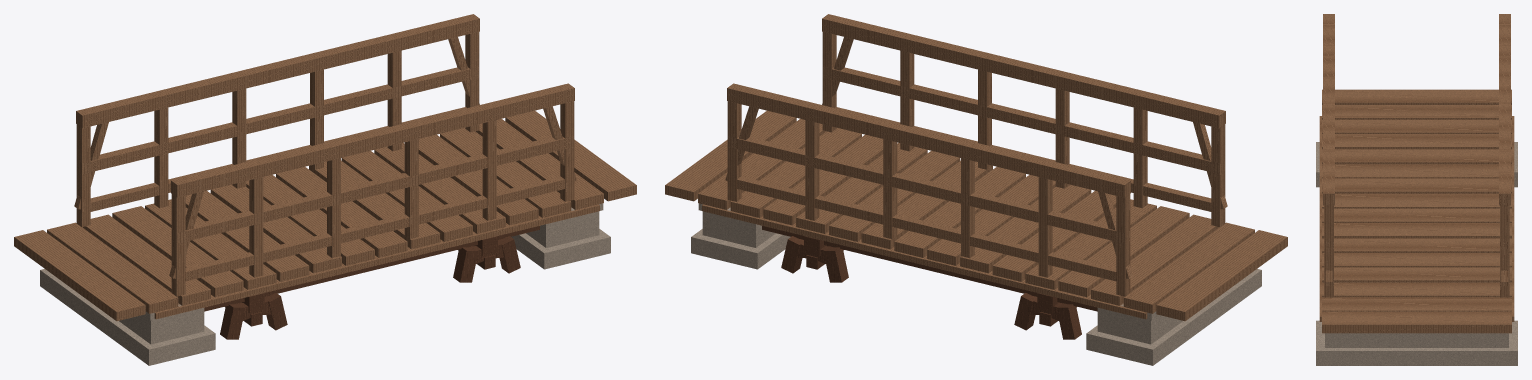
File: wooden-bridge.glb
The picture shows the model from 3 angles, left to right: view 1: azimuth 30°, elevation 25°; view 2: azimuth 150°, elevation 25°; view 3: azimuth 270°, elevation 25°; orthographic projection. The views are drawn at different scales.
Visible parts, largest first — view 1: railings, deck, abutments, trestle-left, trestle-right, stringers; view 2: railings, deck, abutments, trestle-left, trestle-right, stringers; view 3: deck, abutments, railings.
Part boxes in pixels (bbox=[...]): railings: bbox=[74, 14, 576, 296]; deck: bbox=[14, 110, 636, 321]; abutments: bbox=[40, 203, 610, 365]; trestle-left: bbox=[220, 293, 287, 339]; trestle-right: bbox=[453, 236, 520, 282]; stringers: bbox=[204, 226, 539, 311]; railings: bbox=[725, 14, 1227, 296]; deck: bbox=[665, 110, 1287, 321]; abutments: bbox=[691, 203, 1261, 365]; trestle-left: bbox=[1014, 293, 1081, 339]; trestle-right: bbox=[781, 236, 848, 282]; stringers: bbox=[762, 226, 1097, 311]; deck: bbox=[1319, 89, 1514, 333]; abutments: bbox=[1316, 142, 1517, 365]; railings: bbox=[1323, 14, 1510, 297].
Bounding box in the file's own units: 4.68 × 1.48 × 1.7.
Materials: 3 (3 with a texture image).
